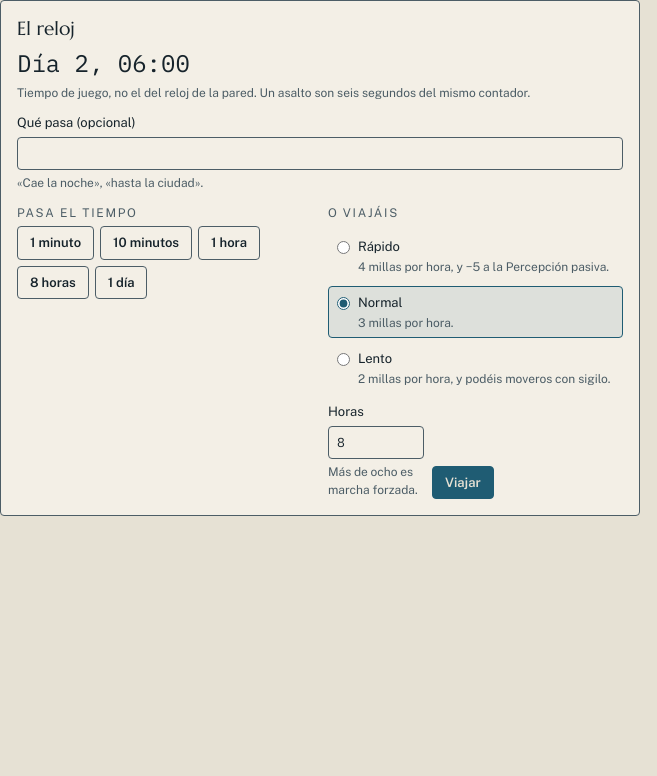
RelojDeCampana › **las salvaciones de marcha forzada se enseñan con su CD**, no se esconden en un aviso
The width and height of the screenshot is (657, 776).
Click the button "Viajar" at (463, 483), box [432,466,494,499]
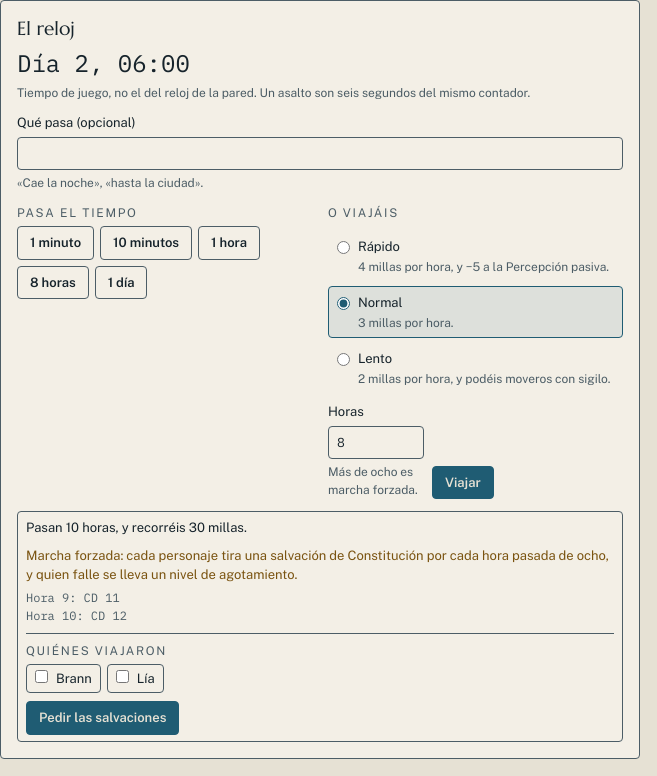
Result: the text "Marcha forzada" is shown at [26,548,609,582]
Result: the list item "Hora 9: CD 11" is shown at [26,590,120,605]
Result: the list item "Hora 10: CD 12" is shown at [26,608,127,623]
